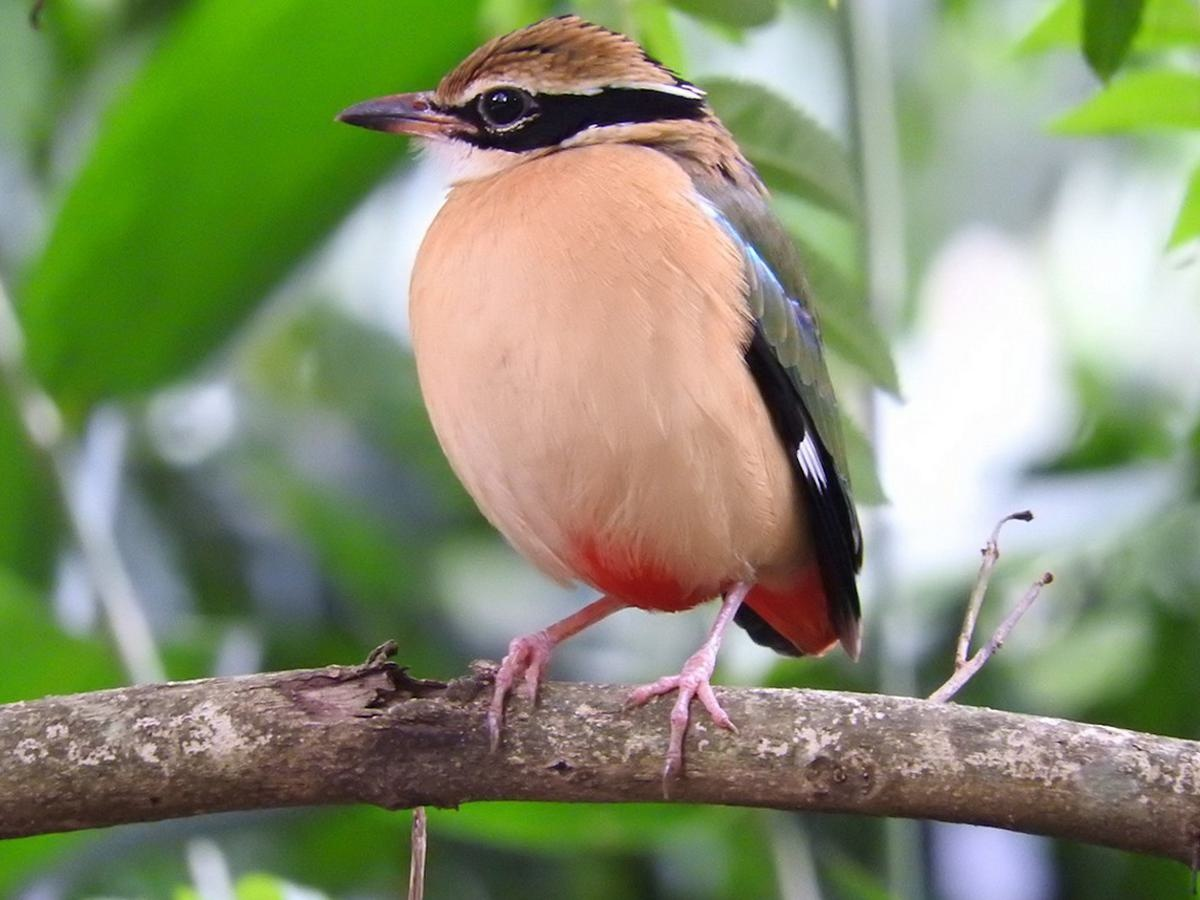pitta: (331, 27, 880, 740)
